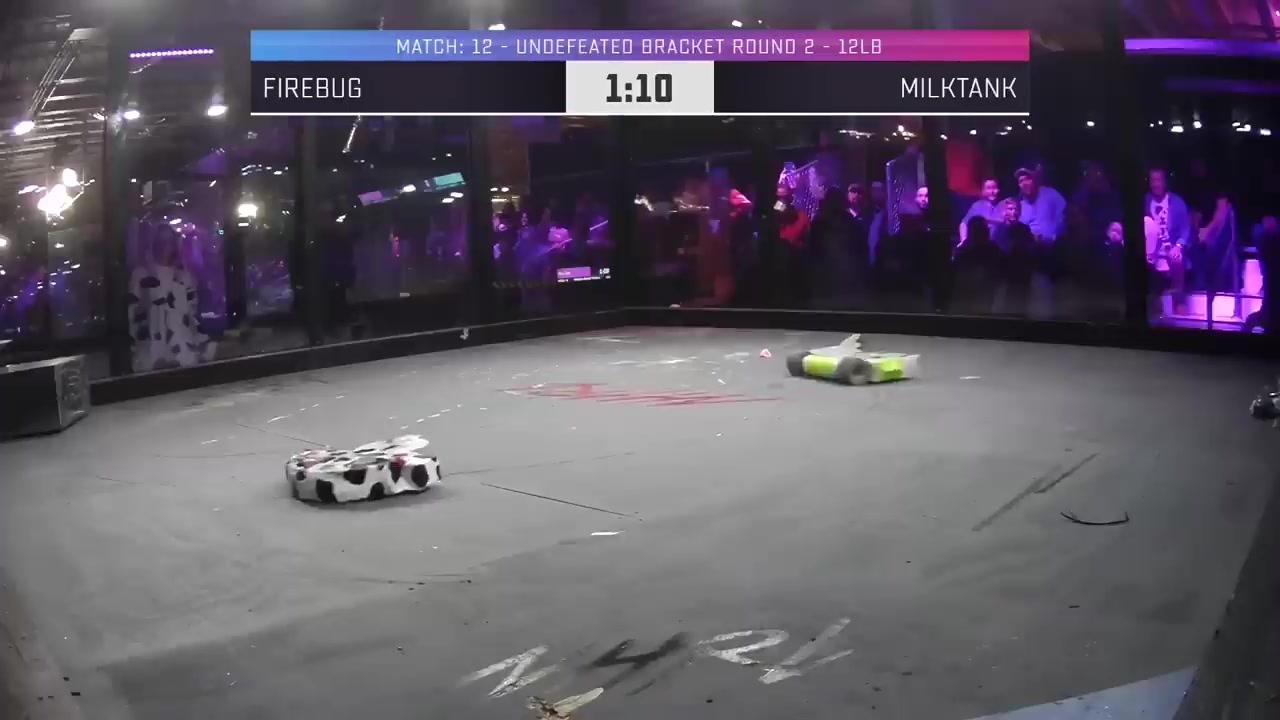belt: (1058, 507, 1131, 531)
combatbot: (284, 434, 447, 508), (787, 337, 923, 388), (1248, 377, 1280, 426)
housebot: (0, 353, 93, 446)
